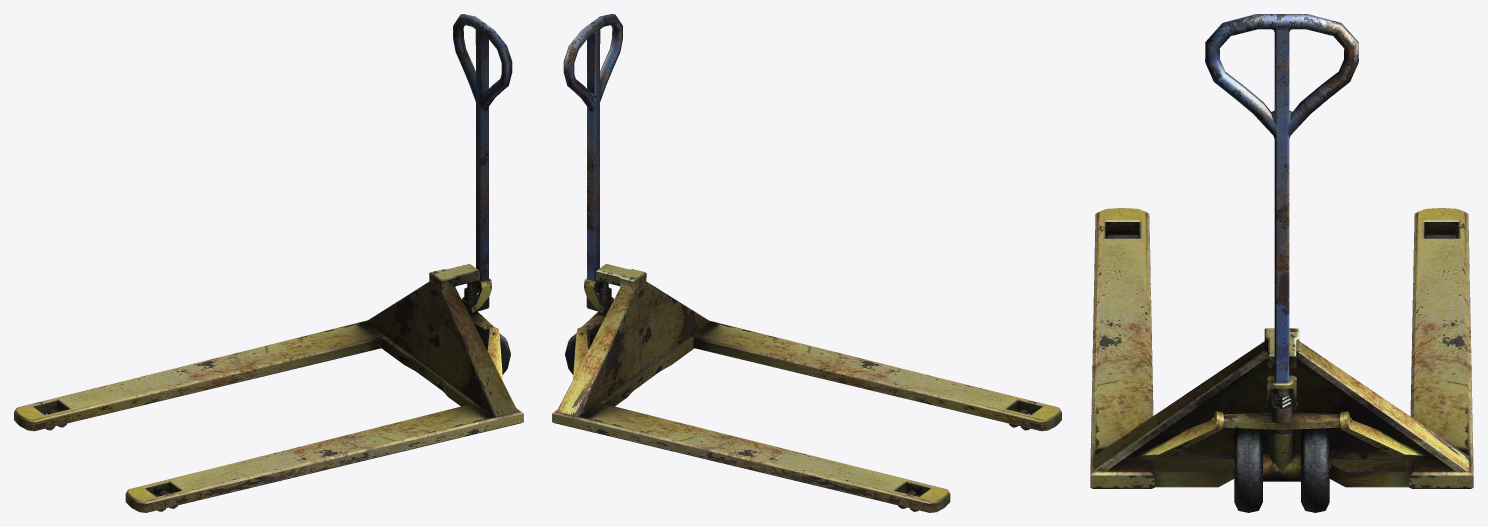
The model's file is handtruck.glb.
3 views of the same model, side by side, from view 1: azimuth 30°, elevation 25°; view 2: azimuth 150°, elevation 25°; view 3: azimuth 270°, elevation 25° (orthographic). The views are drawn at different scales.
Visible parts, largest first — view 1: 0_HandTruck; view 2: 0_HandTruck; view 3: 0_HandTruck.
Boxes of the visible parts, <box> form: 0_HandTruck: <box>14,14,523,512</box>; 0_HandTruck: <box>552,14,1061,512</box>; 0_HandTruck: <box>1090,14,1473,512</box>.
Size of the model in its own units: 2.04 by 1.63 by 1.12.
Materials: 1 (1 with a texture image).
